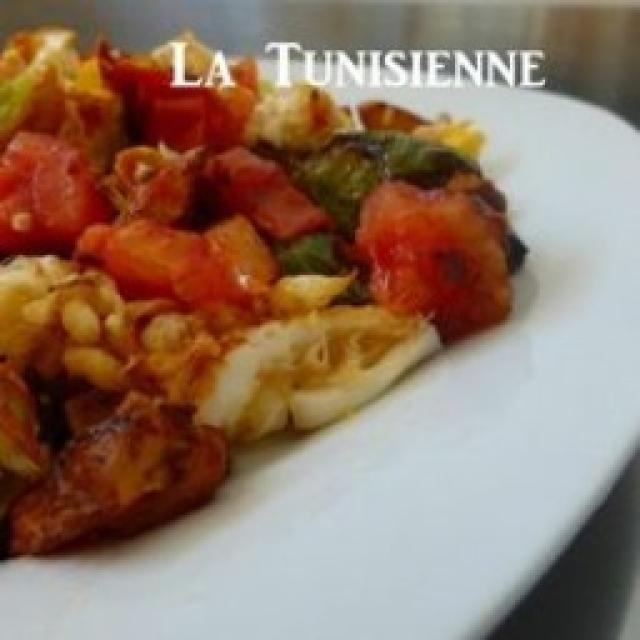Kafteji: (0, 30, 526, 556)
